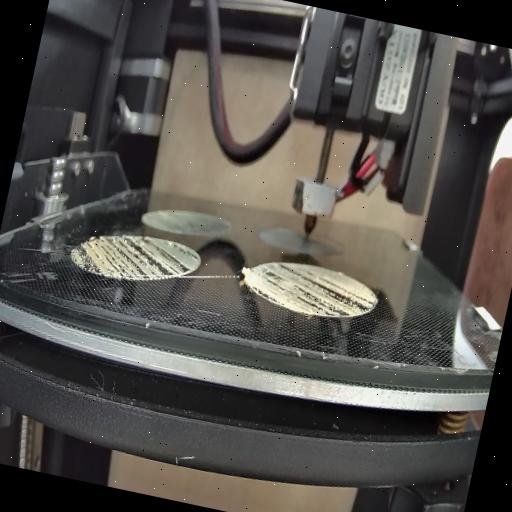under_extrusion: (74, 220, 203, 294), (250, 260, 378, 326)
